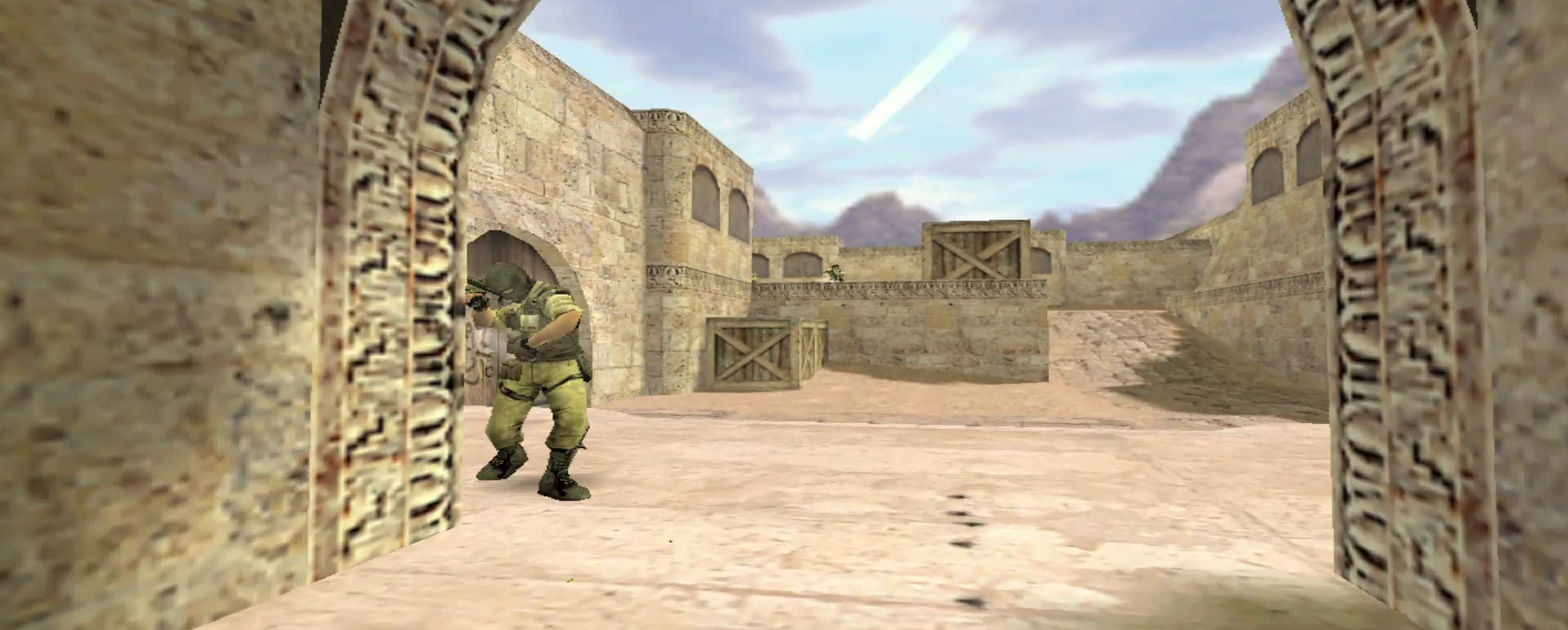ter: (468, 287, 596, 499)
ter_head: (483, 260, 531, 302)
